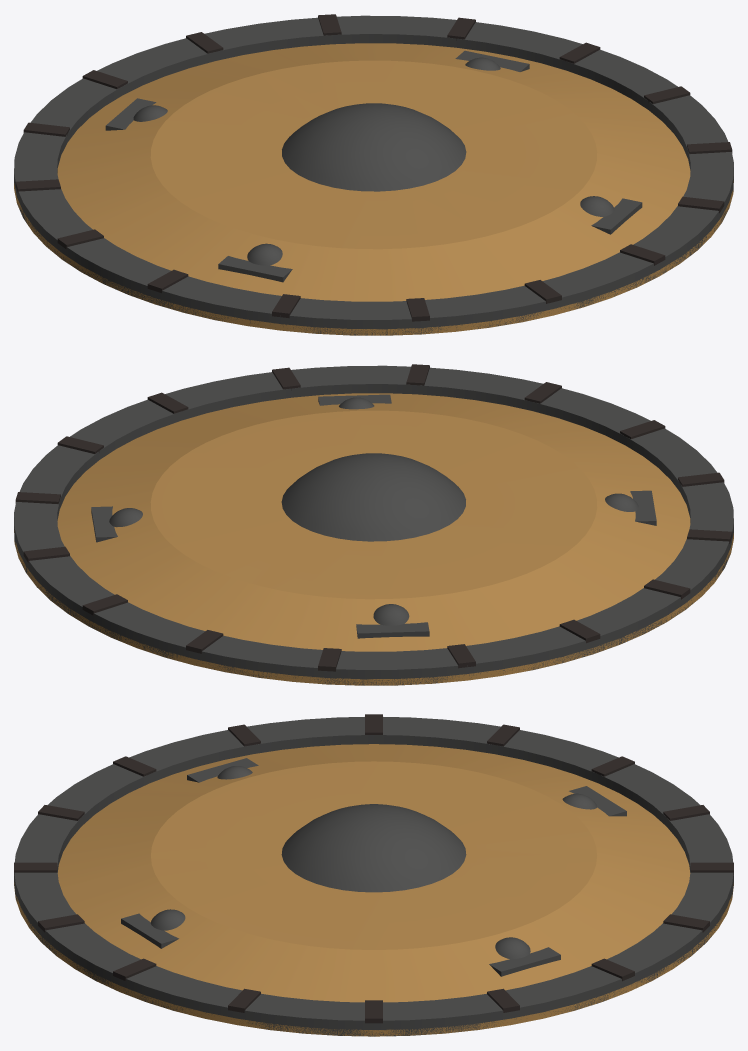
The picture shows the model from 3 angles, top to bottom: view 1: azimuth 30°, elevation 25°; view 2: azimuth 150°, elevation 25°; view 3: azimuth 270°, elevation 25°; orthographic projection.
Parts seen in each view (by area): view 1: face, rim, dome, square_base.003, square_base.004, square_base.002, small_dome.003, square_base.001, small_dome.004; view 2: face, rim, dome, square_base.002, square_base.001, square_base.003, small_dome.002, square_base.004; view 3: face, rim, dome, square_base.001, square_base.004, square_base.002, small_dome.001, square_base.003, small_dome.004.
Boxes of the visible parts, x1,y1,x2,y2 form: face: (14, 43, 733, 335); rim: (14, 15, 733, 335); dome: (282, 103, 466, 191); square_base.003: (218, 256, 292, 282); square_base.004: (591, 198, 642, 234); square_base.002: (105, 98, 156, 130); small_dome.003: (247, 243, 282, 265); square_base.001: (455, 50, 529, 71); small_dome.004: (580, 196, 614, 216); face: (14, 393, 733, 685); rim: (14, 365, 733, 685); dome: (281, 453, 465, 541); square_base.002: (356, 622, 429, 638); square_base.001: (91, 506, 117, 542); square_base.003: (630, 490, 656, 525); small_dome.002: (373, 604, 409, 625); square_base.004: (318, 394, 391, 405); face: (14, 744, 733, 1036); rim: (14, 717, 733, 1036); dome: (281, 804, 466, 892); square_base.001: (489, 947, 560, 976); square_base.004: (121, 913, 178, 948); square_base.002: (569, 786, 626, 816); small_dome.001: (495, 937, 530, 959); square_base.003: (187, 758, 258, 782); small_dome.004: (150, 909, 185, 930).
Size of the model in its own units: 0.1 by 0.0106 by 0.1.
